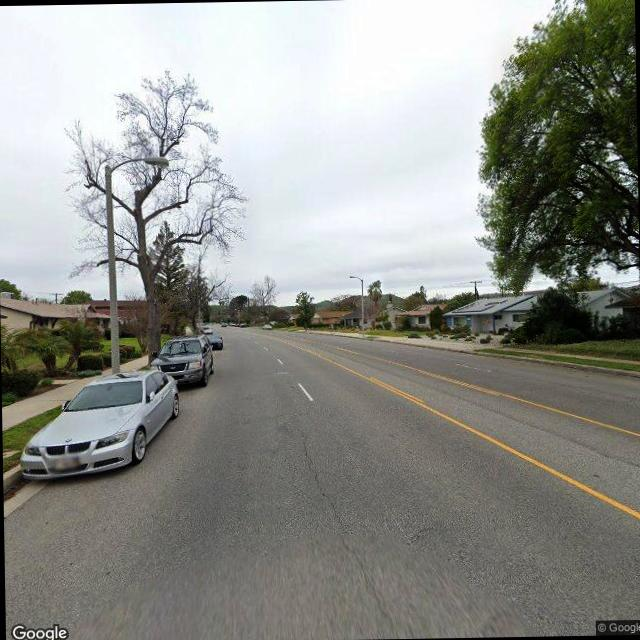pothole: (286, 410, 392, 626)
